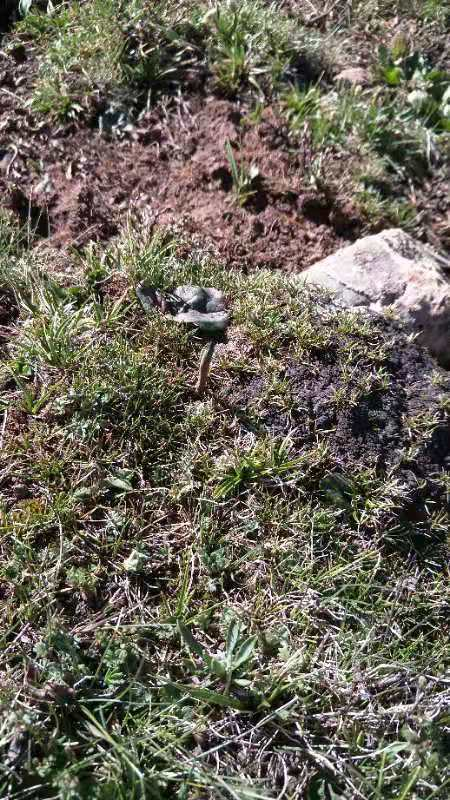cpf: (191, 342, 222, 398)
